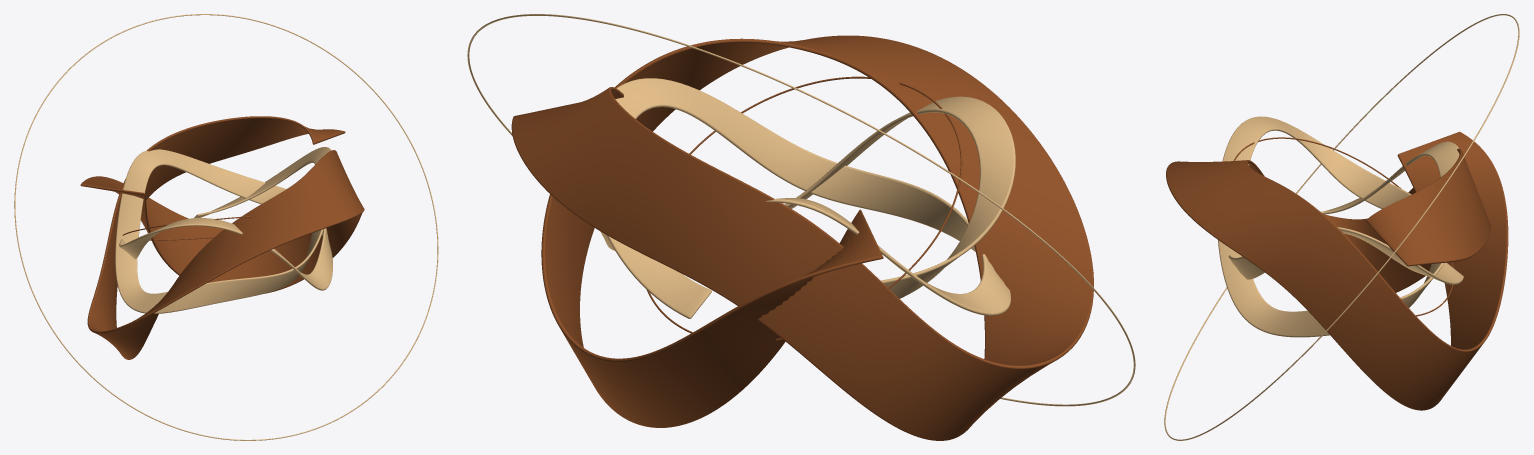
The model's file is solaris-sculpture.glb.
3 views of the same model, side by side, from view 1: azimuth 30°, elevation 25°; view 2: azimuth 150°, elevation 25°; view 3: azimuth 270°, elevation 25° (orthographic). The views are drawn at different scales.
Parts seen in each view (by area): view 1: amber tide, ivory echo, tilted orbit; view 2: amber tide, ivory echo, tilted orbit, inner orbit; view 3: amber tide, ivory echo, tilted orbit, inner orbit.
Boxes of the visible parts, bbox=[...] form: amber tide: bbox=[80, 116, 364, 359]; ivory echo: bbox=[115, 147, 332, 313]; tilted orbit: bbox=[14, 14, 438, 440]; amber tide: bbox=[511, 35, 1093, 440]; ivory echo: bbox=[600, 78, 1015, 318]; tilted orbit: bbox=[467, 14, 1135, 406]; inner orbit: bbox=[647, 76, 962, 340]; amber tide: bbox=[1166, 131, 1508, 410]; ivory echo: bbox=[1218, 116, 1463, 337]; tilted orbit: bbox=[1164, 14, 1519, 440]; inner orbit: bbox=[1233, 137, 1453, 316].
Bounding box in the file's own units: 4.7 × 3.59 × 3.08.
